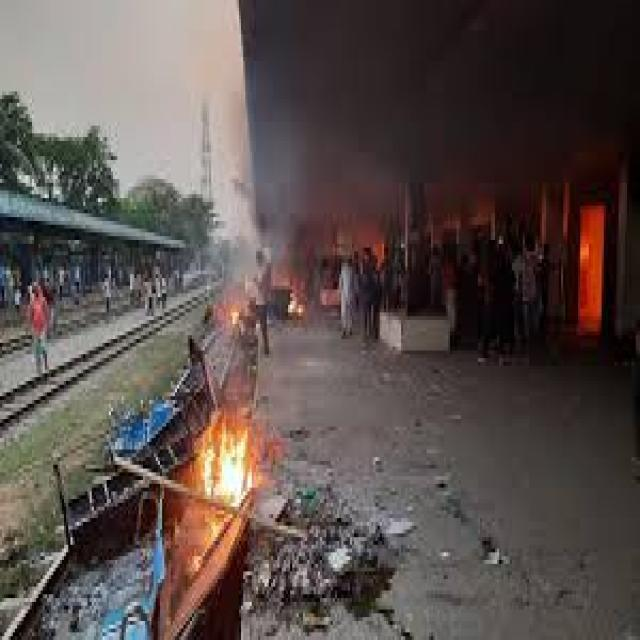Fire: (181, 413, 277, 571), (580, 204, 602, 331), (222, 301, 246, 328), (286, 287, 306, 319), (372, 224, 386, 264)
Smoke: (248, 0, 640, 222), (245, 222, 334, 280)
